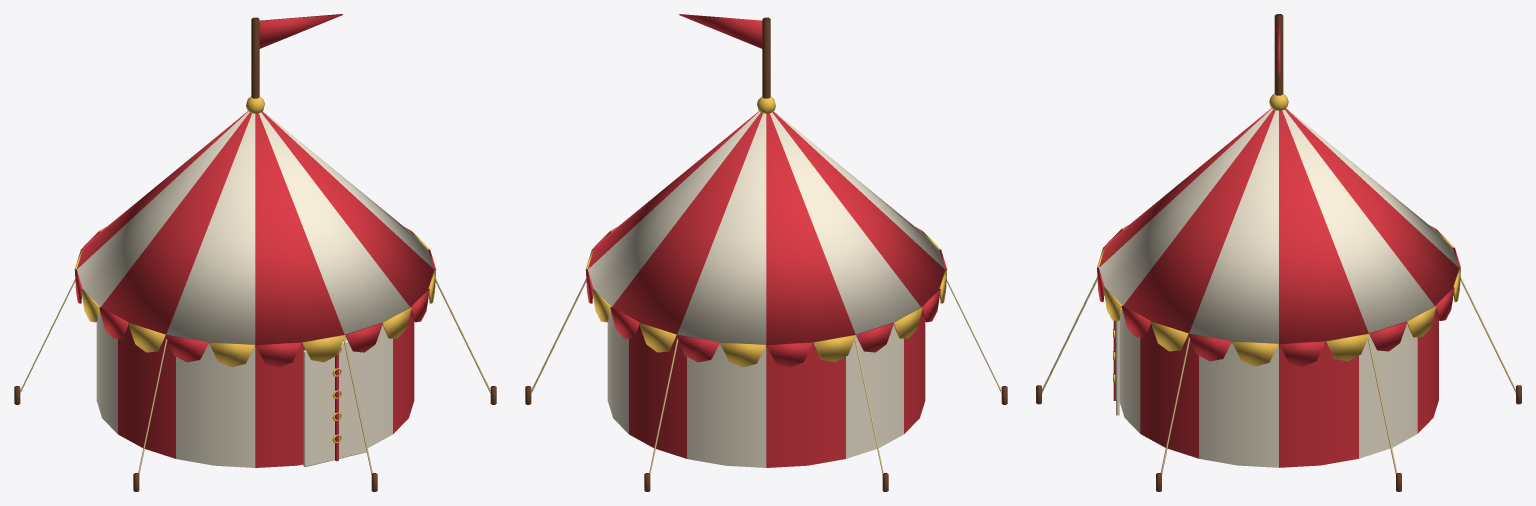
File: faire_tent.glb
The picture shows the model from 3 angles, left to right: view 1: azimuth 30°, elevation 25°; view 2: azimuth 150°, elevation 25°; view 3: azimuth 270°, elevation 25°; orthographic projection.
Visible parts, largest first — view 1: Tent; view 2: Tent; view 3: Tent.
Part boxes in pixels (box(x1,y1,x2,y2)): Tent: box(14, 14, 496, 491); Tent: box(525, 14, 1007, 491); Tent: box(1036, 14, 1521, 491).
Bounding box in the file's own units: 6.84 × 6.95 × 7.9.
